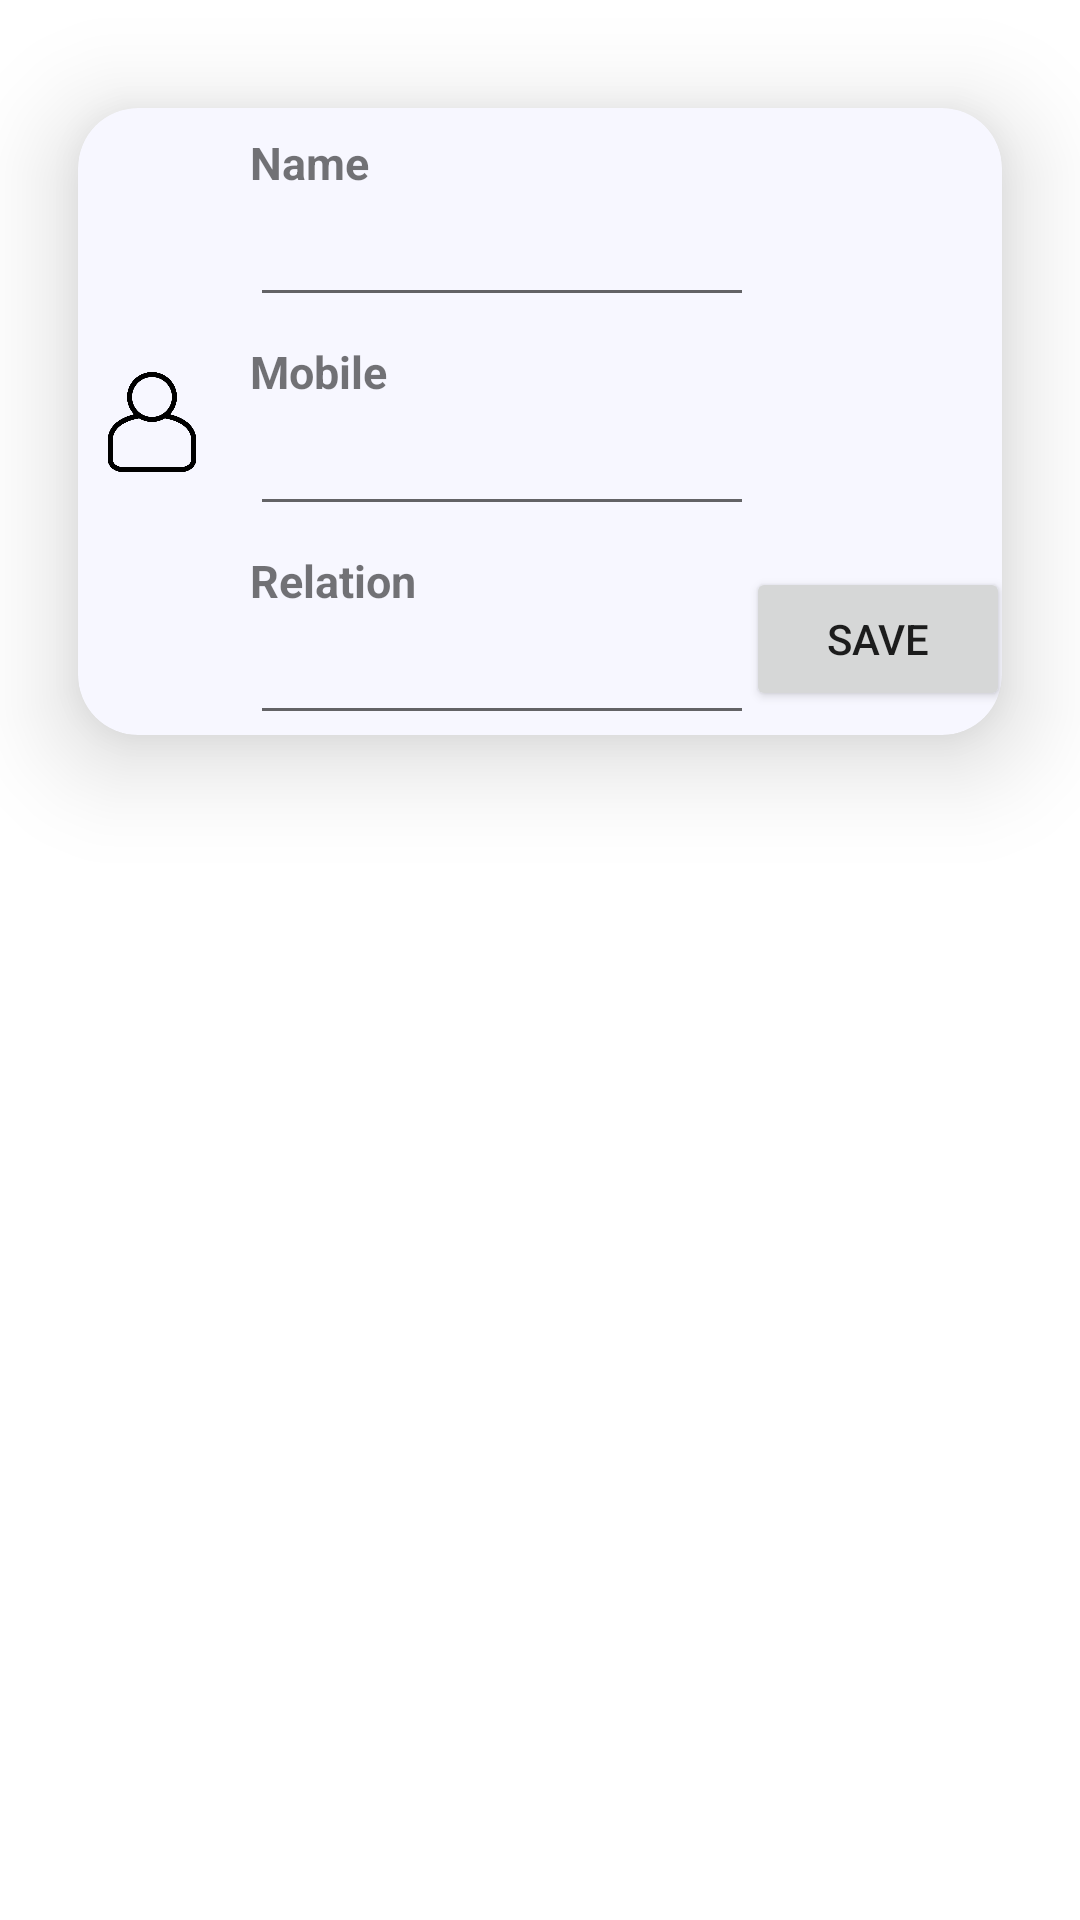

Icon bounding boxes for this 1080 x 1920 phone screenshot, format (x1, y1, x2, y2):
user: (108, 372, 196, 472)
